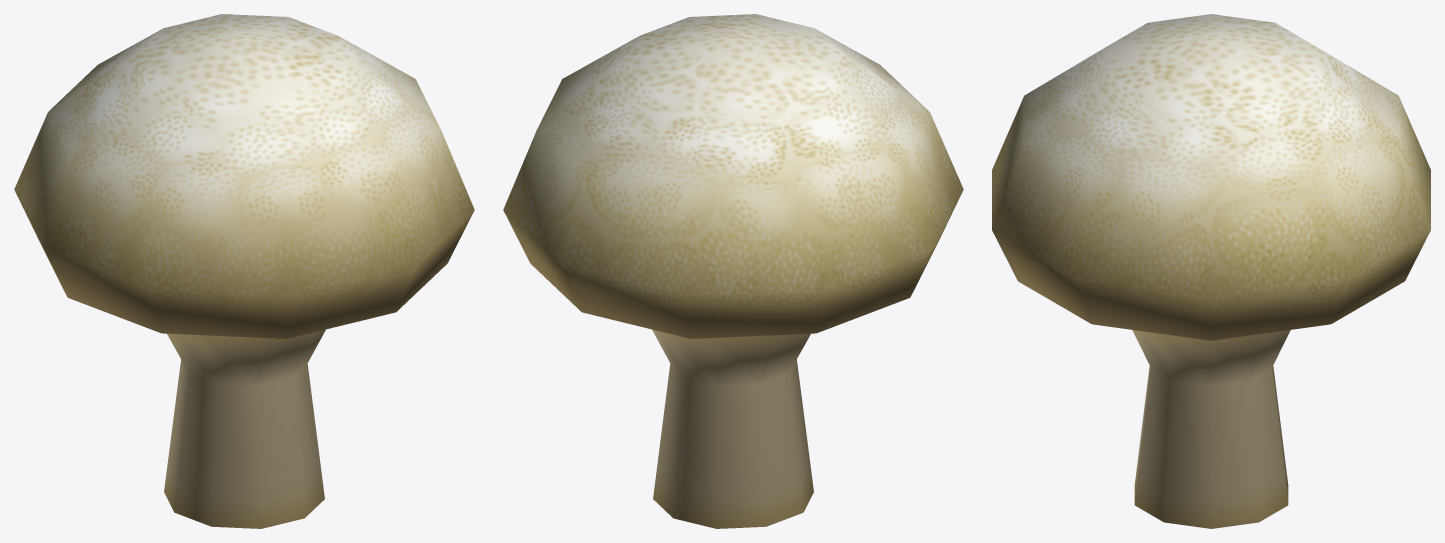
File: Cauliflower_Piece.fbx
3 views of the same model, side by side, from view 1: azimuth 30°, elevation 25°; view 2: azimuth 150°, elevation 25°; view 3: azimuth 270°, elevation 25° (orthographic).
Visible parts, largest first — view 1: Cauliflower_Piece; view 2: Cauliflower_Piece; view 3: Cauliflower_Piece.
Part boxes in pixels (left/top/right/bottom): Cauliflower_Piece: left=14, top=14, right=474, bottom=528; Cauliflower_Piece: left=503, top=14, right=963, bottom=528; Cauliflower_Piece: left=992, top=14, right=1430, bottom=528.
Bounding box in the file's own units: 32.34 × 35.09 × 30.76.
